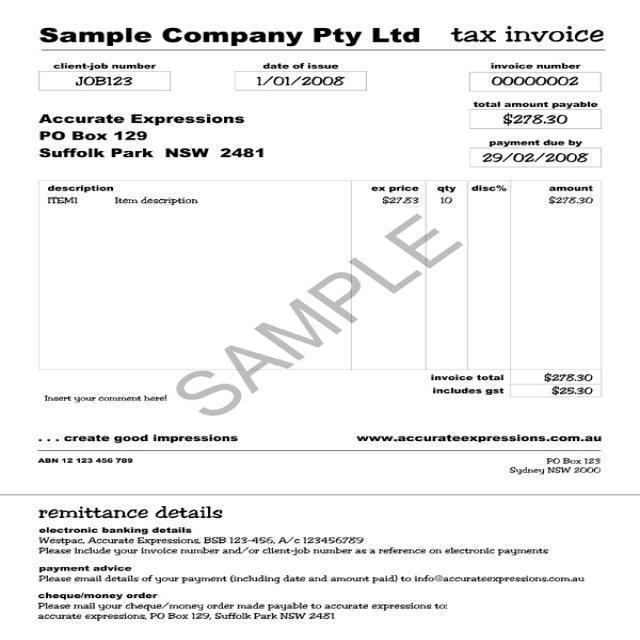paragraph: (32, 502, 591, 631), (26, 17, 434, 50), (34, 107, 273, 162), (428, 364, 601, 405), (222, 56, 382, 95), (352, 428, 605, 449), (36, 59, 179, 96), (464, 53, 607, 90), (467, 99, 607, 130), (468, 137, 607, 168), (447, 24, 607, 48), (24, 429, 253, 445), (32, 383, 173, 408), (498, 455, 615, 482), (32, 452, 142, 469)
table: (27, 175, 608, 227)
